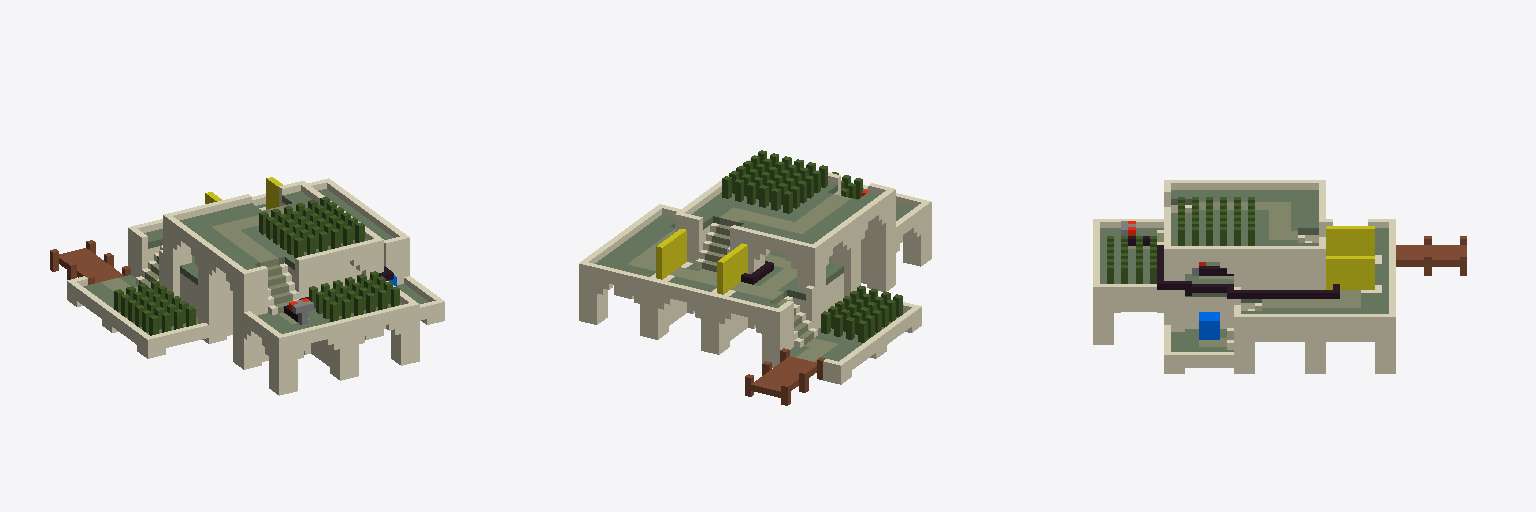
3 views of the same model, side by side, from view 1: azimuth 30°, elevation 25°; view 2: azimuth 150°, elevation 25°; view 3: azimuth 270°, elevation 25° (orthographic).
Parts seen in each view (by area): view 1: object 1; view 2: object 1; view 3: object 1.
Part boxes in pixels (left/top/right/bottom): object 1: left=50, top=177, right=444, bottom=395; object 1: left=579, top=150, right=931, bottom=405; object 1: left=1093, top=180, right=1466, bottom=373.
Bounding box in the file's own units: 4.3 × 1.7 × 5.3.
1 materials, 1 textured.